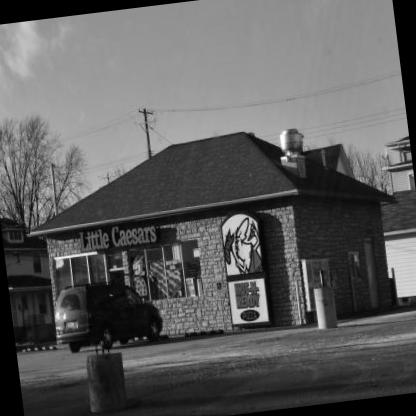car: (47, 266, 170, 357)
